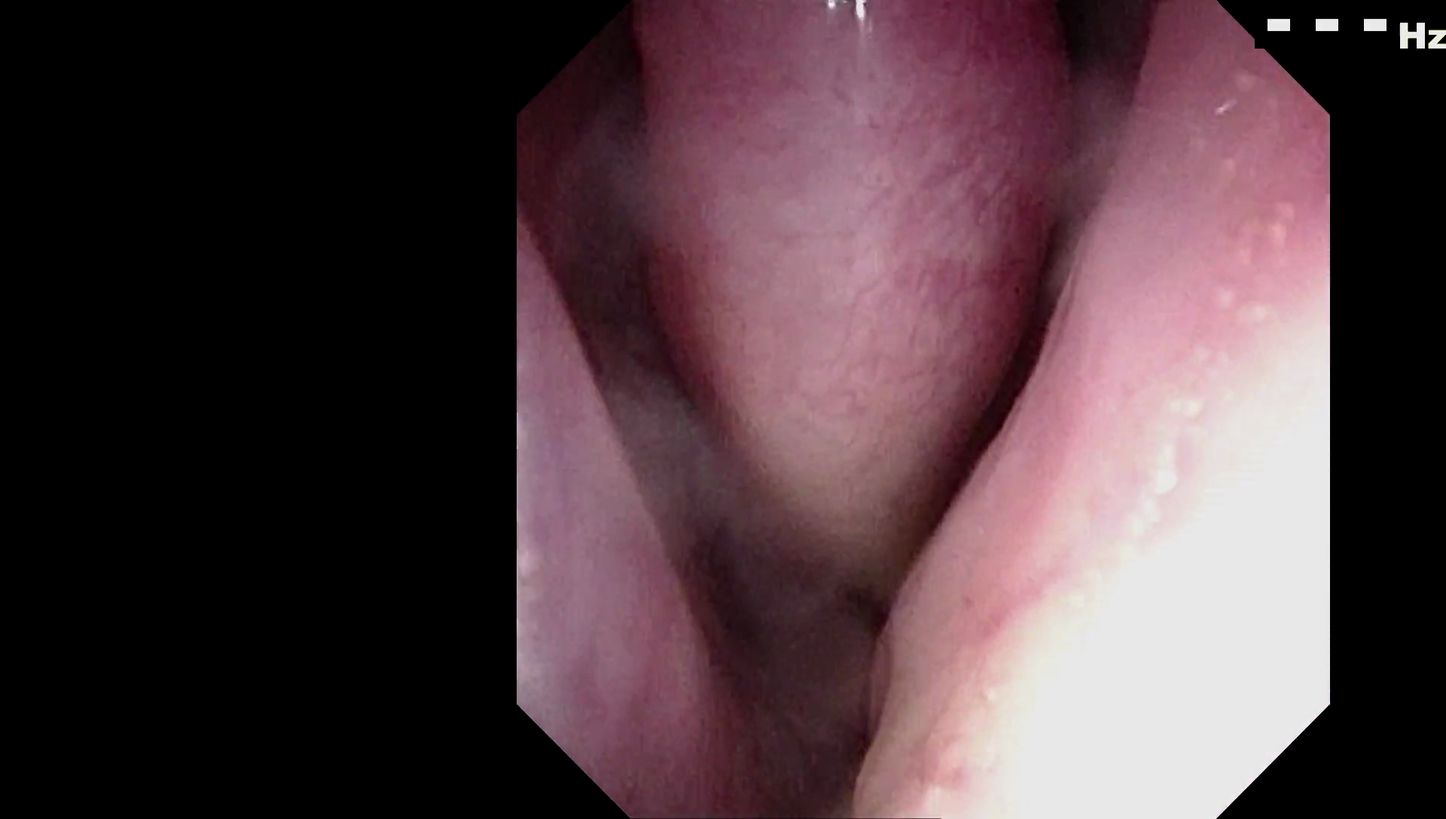close_wall: (953, 305, 1324, 812)
next: (645, 483, 903, 815), (871, 223, 1084, 596), (1025, 0, 1150, 133)
